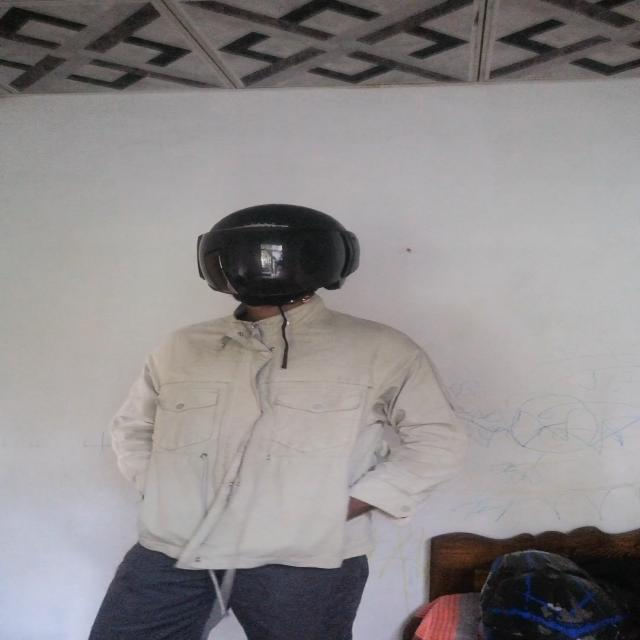Helmet_Wearer: (185, 198, 357, 328)
Jacket_Wearer: (126, 302, 475, 570)
Person: (105, 207, 424, 631)
